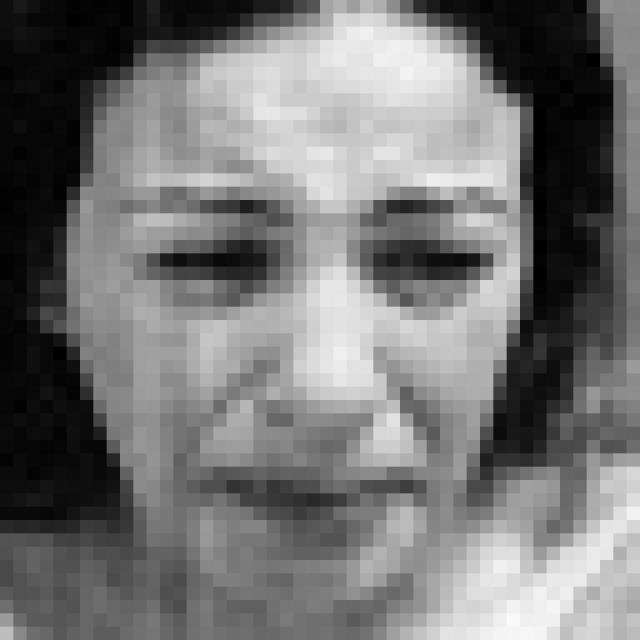sad: (125, 139, 516, 563)
